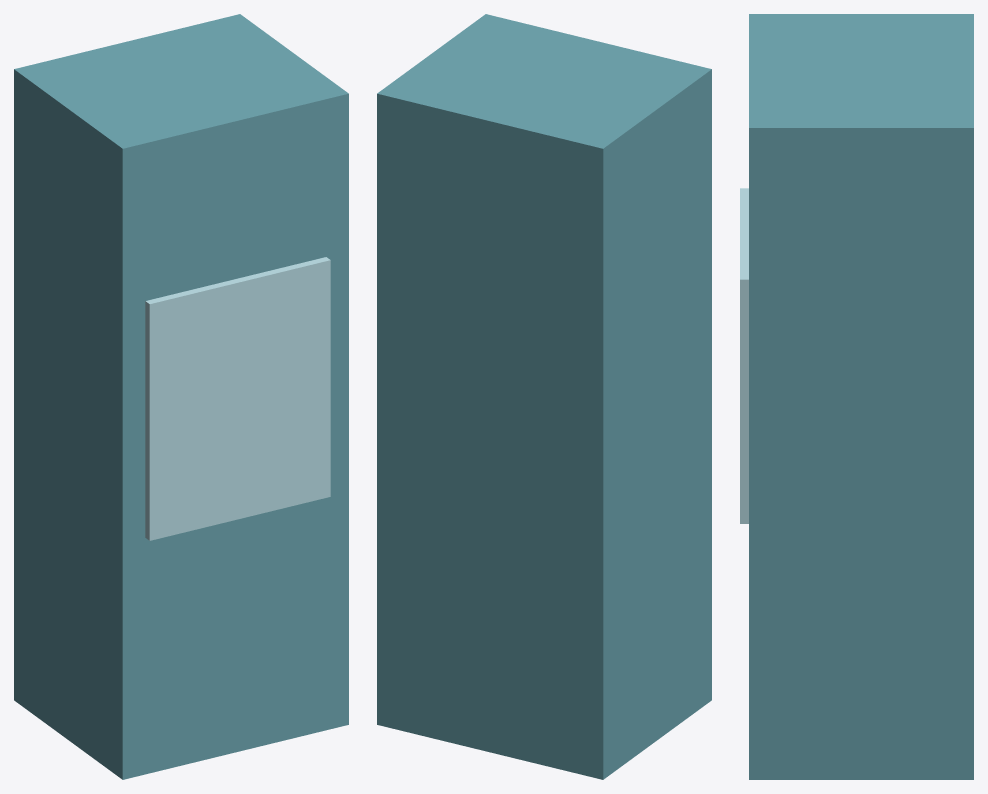
Rendered from env-mod-newsbox.glb.
3 views of the same model, side by side, from view 1: azimuth 30°, elevation 25°; view 2: azimuth 150°, elevation 25°; view 3: azimuth 270°, elevation 25° (orthographic). The views are drawn at different scales.
Bounding box in the file's own units: 0.3 × 0.8 × 0.26.
